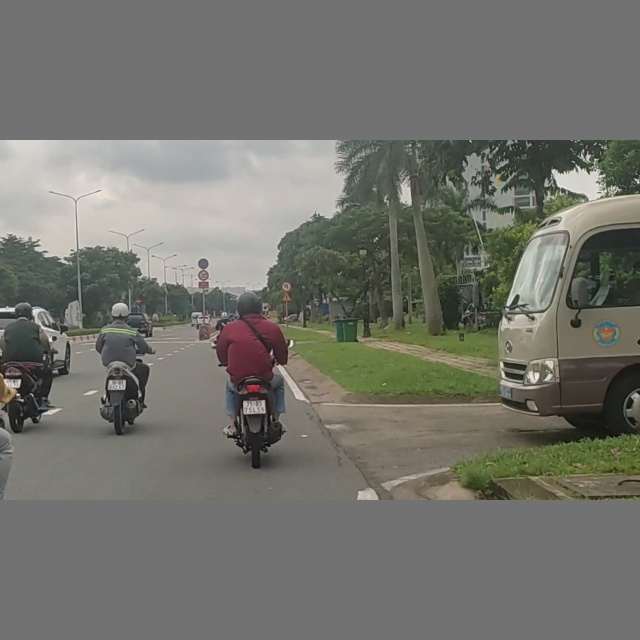P.102: (135, 298, 142, 304)
P.111: (199, 270, 209, 281)
P.124a*: (282, 281, 292, 292)
P.130: (198, 259, 209, 269)
R.302a: (135, 304, 142, 310)
W.224: (281, 293, 292, 302)
